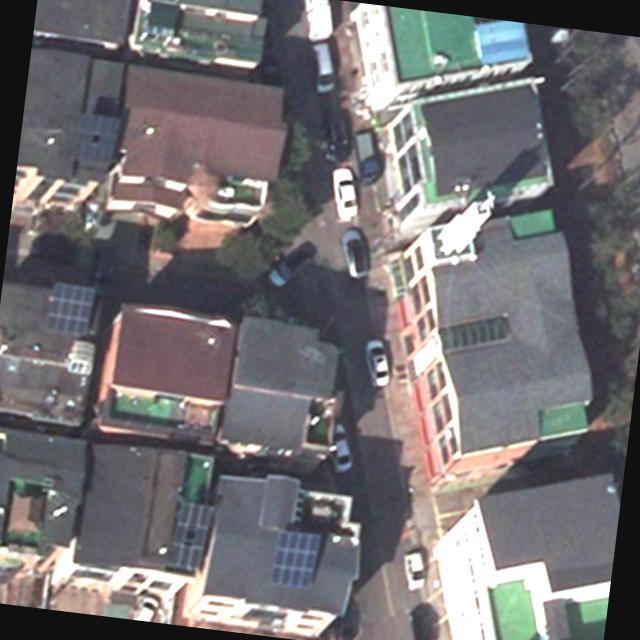solar: (166, 500, 218, 578), (67, 110, 126, 172), (266, 525, 324, 588), (44, 279, 98, 339)
